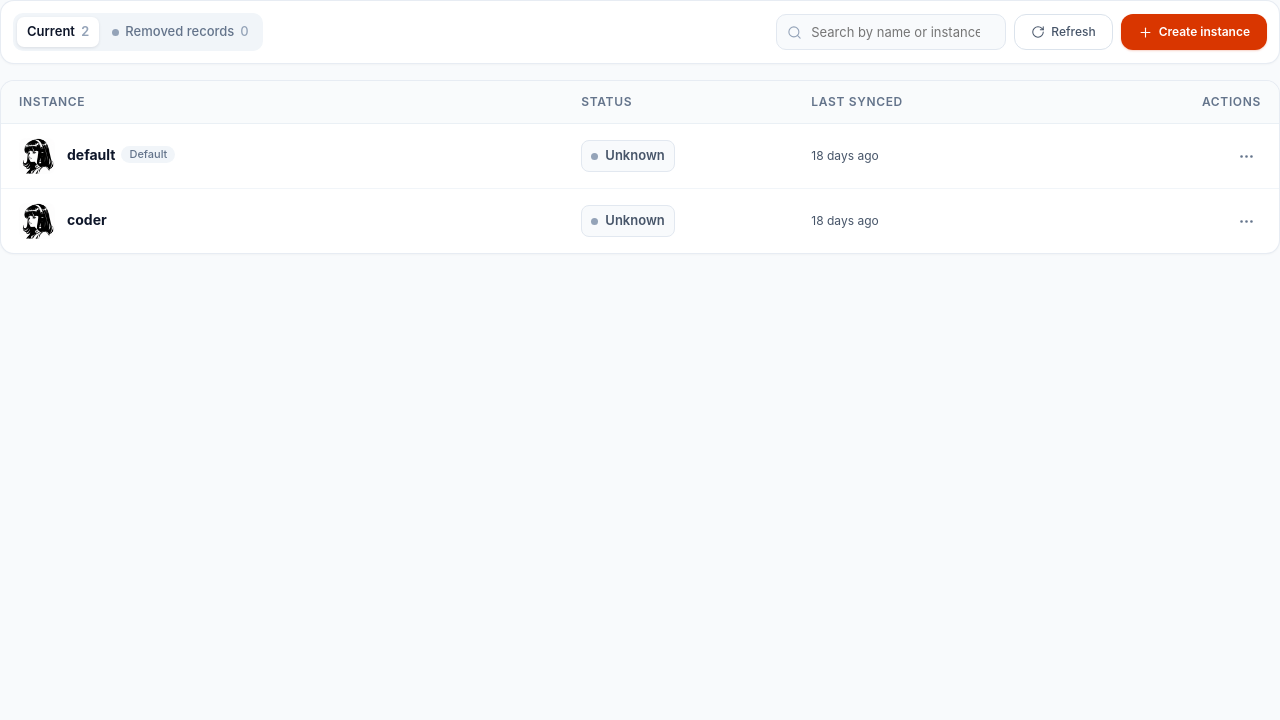
InstancesPage › closes the create dialog after the operation succeeds
This screenshot has width=1280, height=720.
Click the button "Create instance" at [1194, 32], box 1121,14 -> 1267,50
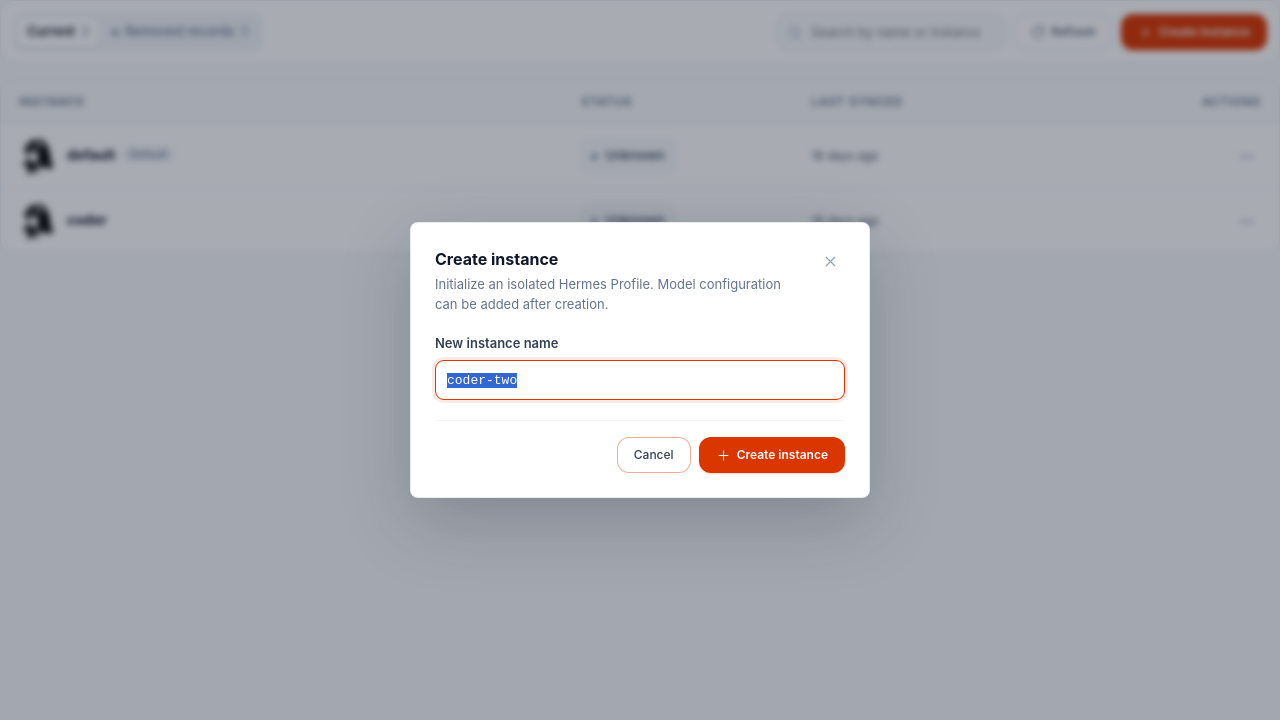
Now the dialog "Create instance" is shown, box 410,222 -> 870,498
